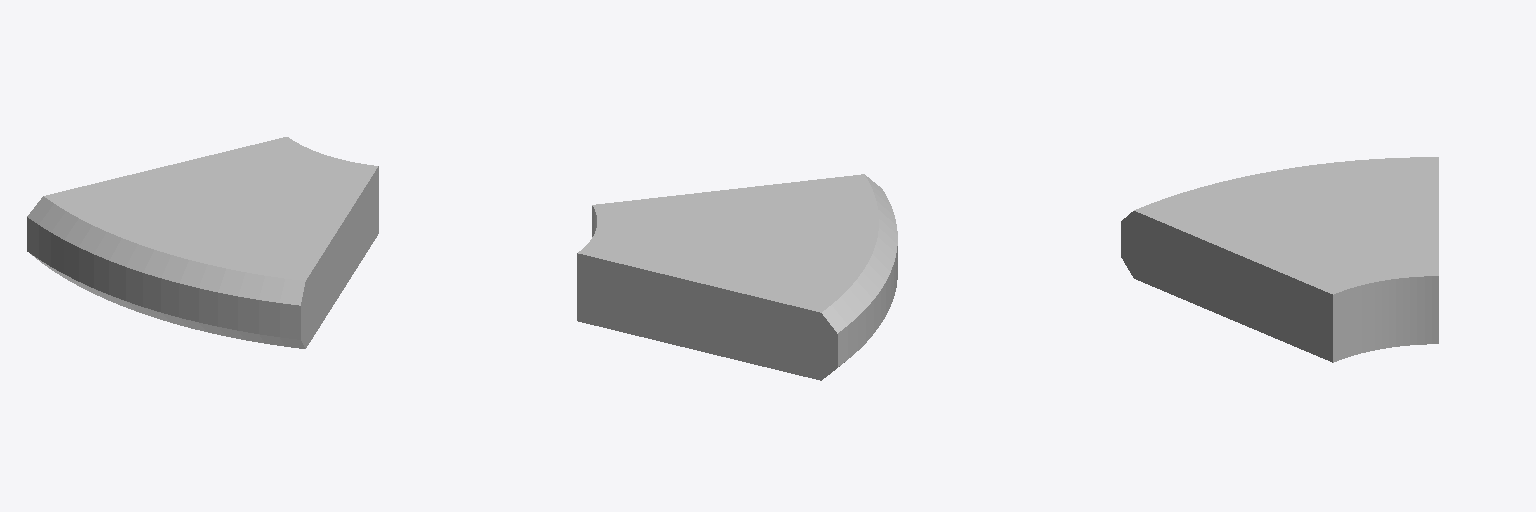
File: BeveledArch.obj
3 views of the same model, side by side, from view 1: azimuth 30°, elevation 25°; view 2: azimuth 150°, elevation 25°; view 3: azimuth 270°, elevation 25° (orthographic).
Parts seen in each view (by area): view 1: Arch.001; view 2: Arch.001; view 3: Arch.001.
Part boxes in pixels (bbox=[...]): Arch.001: bbox=[27, 137, 378, 348]; Arch.001: bbox=[577, 174, 897, 380]; Arch.001: bbox=[1121, 157, 1438, 362].
Bounding box in the file's own units: 2.29 × 0.5 × 2.12.